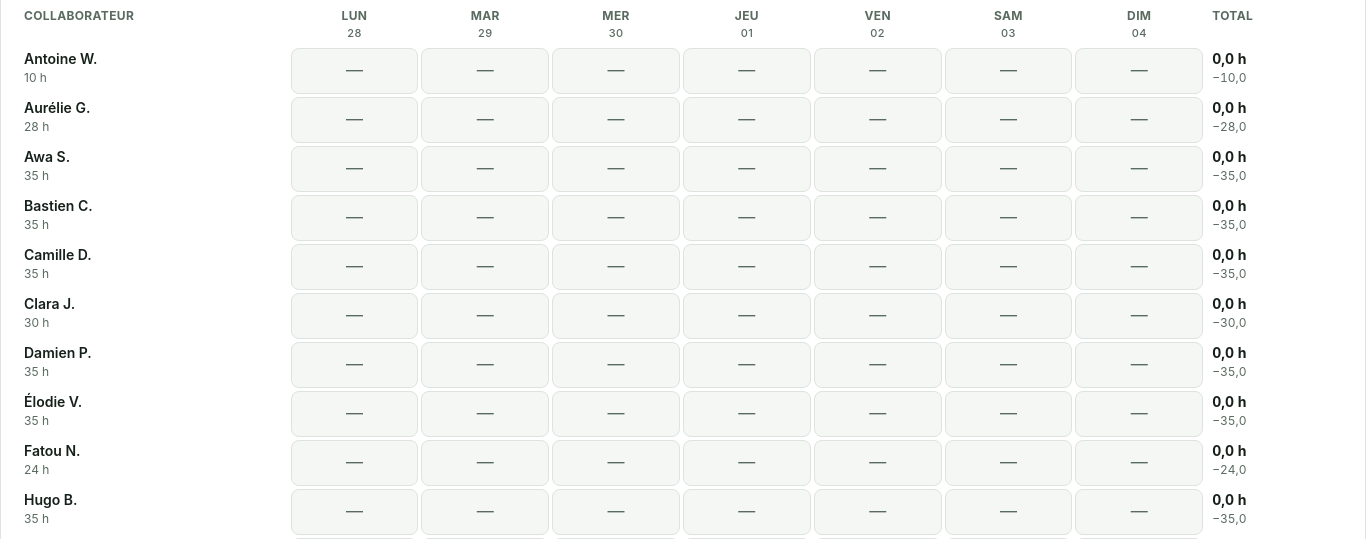
contenu du dossier à présenter › récapitule le total réel de chaque personne, tous rayons confondus
(page scrolled)
Click the button named "Camille D., lundi": (354, 267) x1=291 y1=244 x2=418 y2=290
(page scrolled)
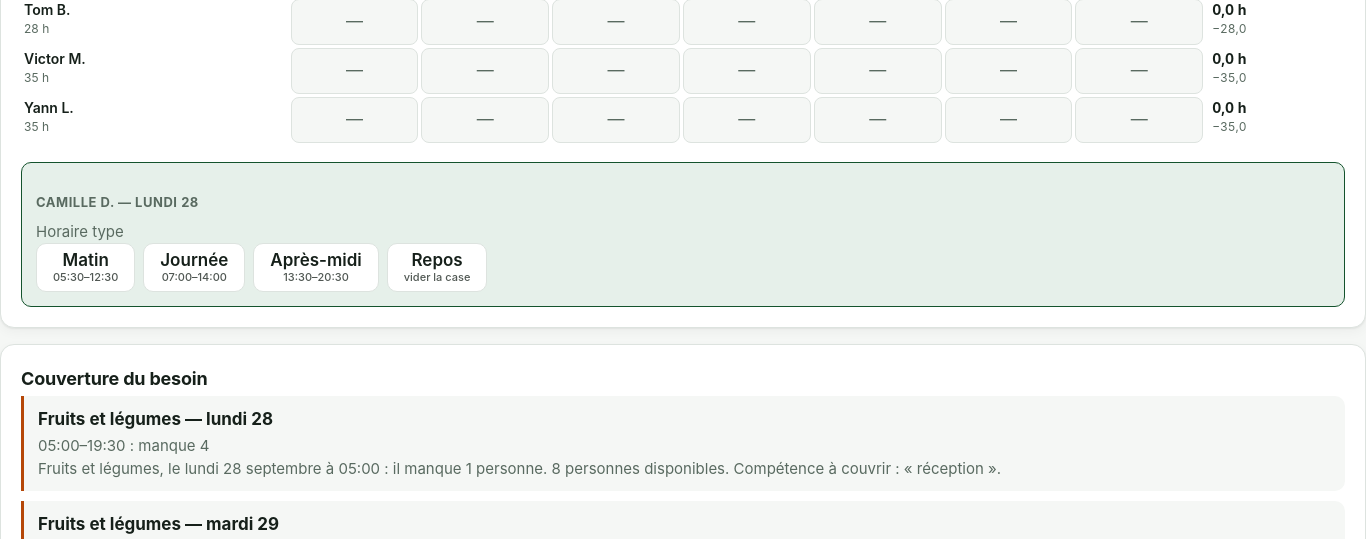
Click the button "Matin 05:30–12:30": (86, 267) x1=36 y1=243 x2=135 y2=292
(page scrolled)
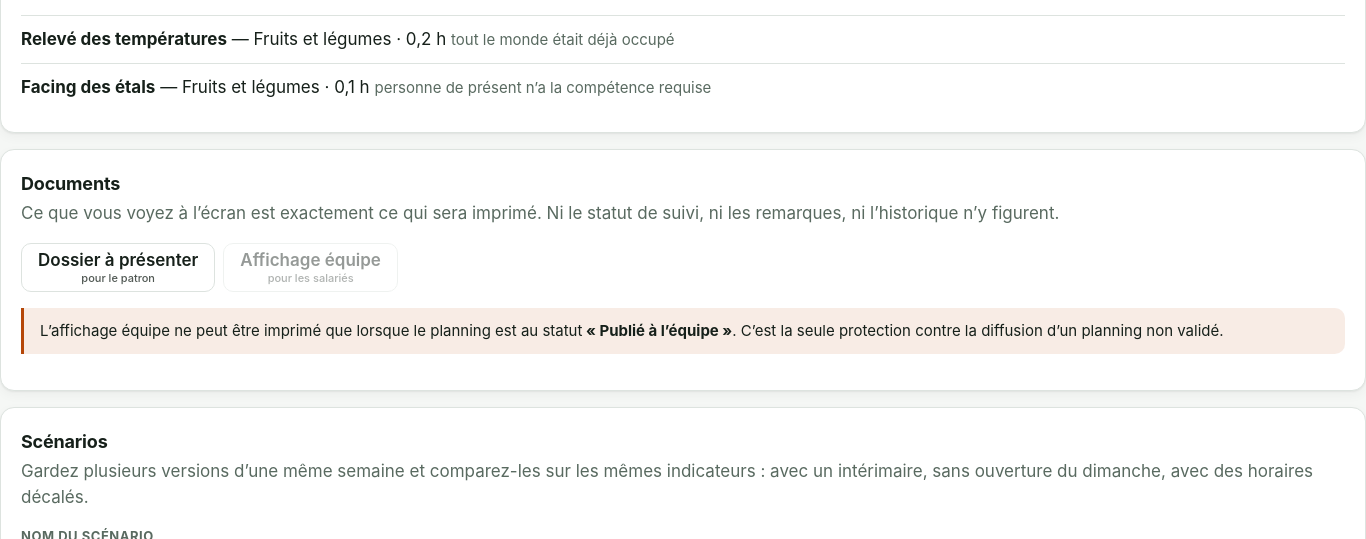
Click the button "Dossier à présenter pour le patron": (118, 268) x1=21 y1=243 x2=215 y2=292
(page scrolled)
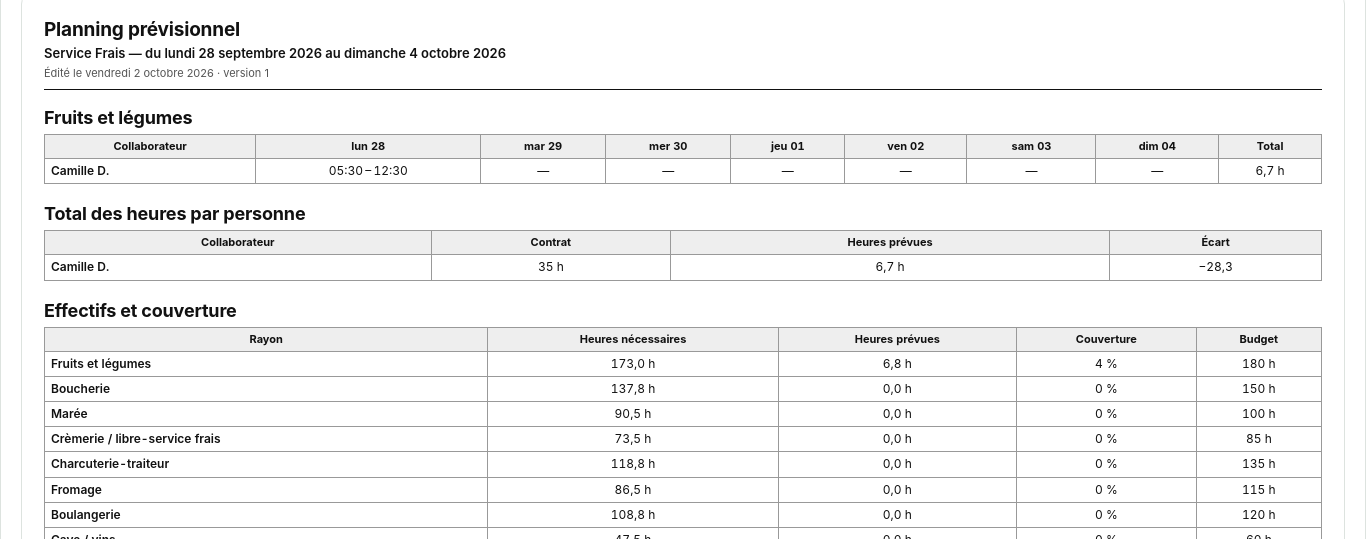
Result: the text "35 h" is shown at x1=431 y1=255 x2=671 y2=280
Result: the row "Camille D. 35 h 6,7 h −28,3" is shown at x1=44 y1=255 x2=1322 y2=280
